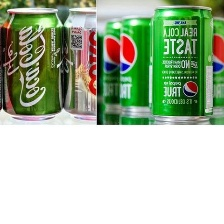can: (150, 5, 215, 126), (4, 8, 64, 122), (116, 11, 160, 119), (63, 6, 97, 123), (101, 15, 125, 118), (210, 13, 224, 117)
